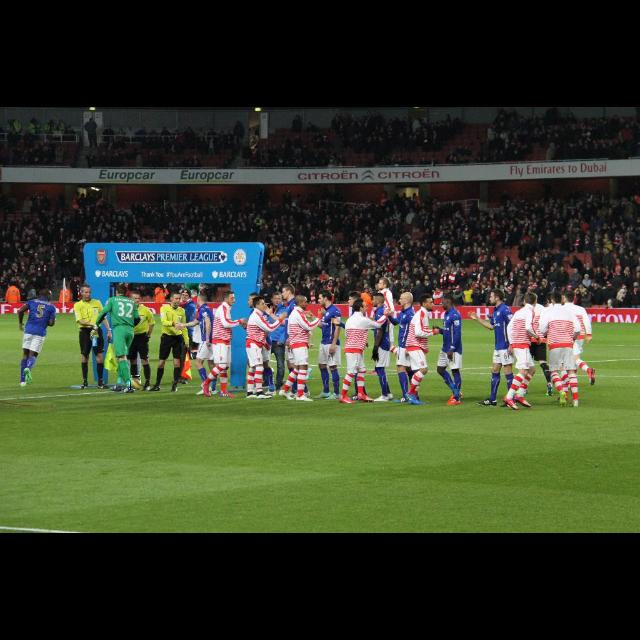Football: (130, 376, 140, 390)
